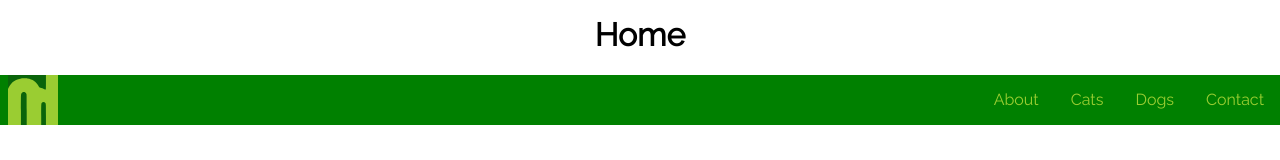
App navigation › clicking on the cats link should go to the cats page
This screenshot has width=1280, height=160.
Click the link "Cats": click(1087, 100) [1071,90,1103,109]
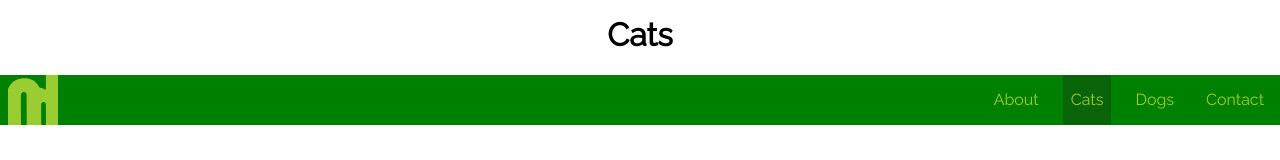
Check: the heading "Cats" is shown, box [607,16,673,53]
